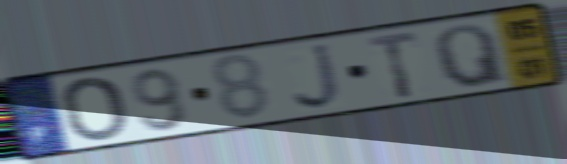8: (208, 52, 278, 125)
9: (128, 65, 190, 134)
J: (291, 40, 346, 112)
O: (59, 74, 131, 143)
Q: (431, 22, 512, 91)
T: (364, 28, 422, 101)
